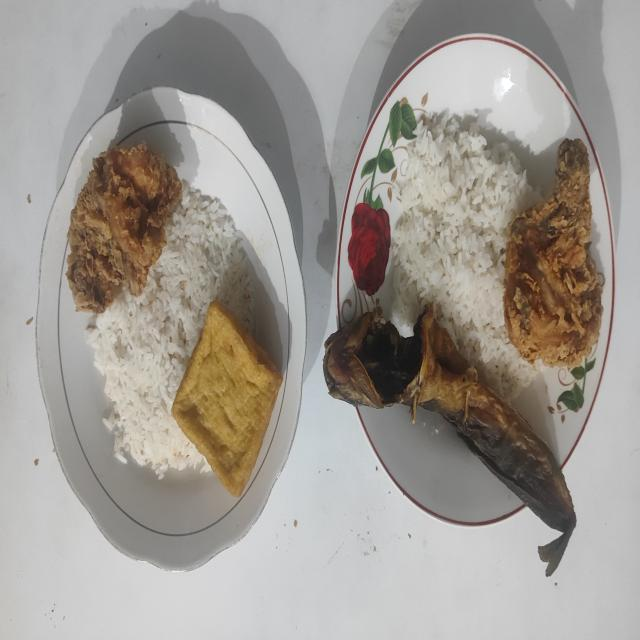nasi_putih: (86, 186, 254, 479), (390, 110, 538, 400)
tahu_goreng: (172, 300, 283, 497)
